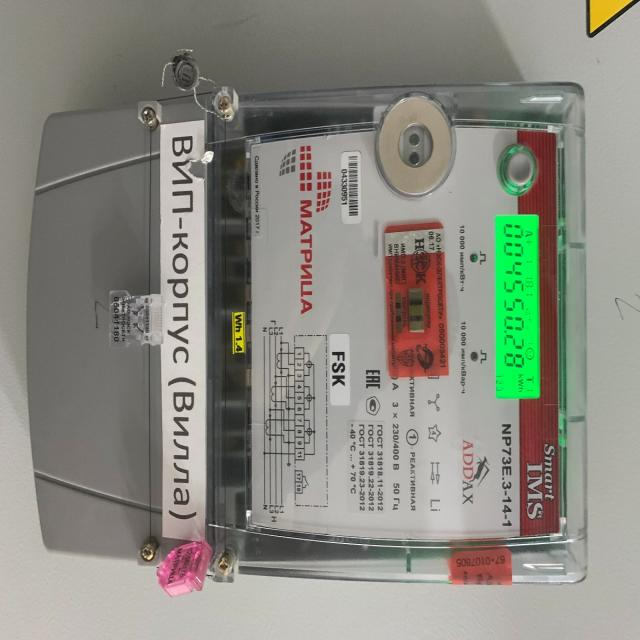Display: (492, 217, 543, 396)
meter_matrica: (230, 107, 586, 565)
meter_number: (341, 151, 363, 224)
seal_imp: (384, 217, 445, 379)
